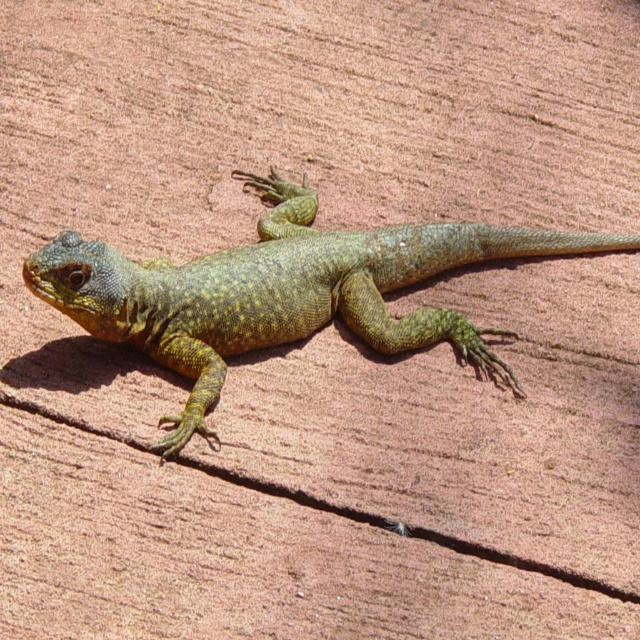Lizard: (22, 165, 640, 463)
